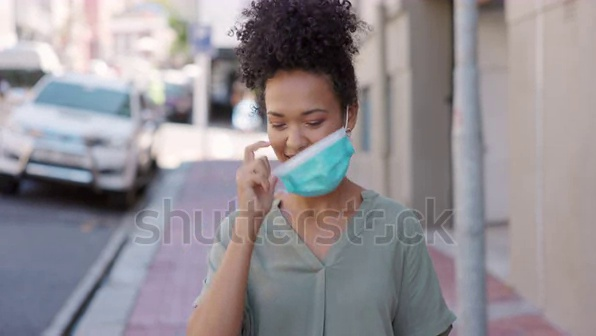Mask: (263, 134, 359, 194)
